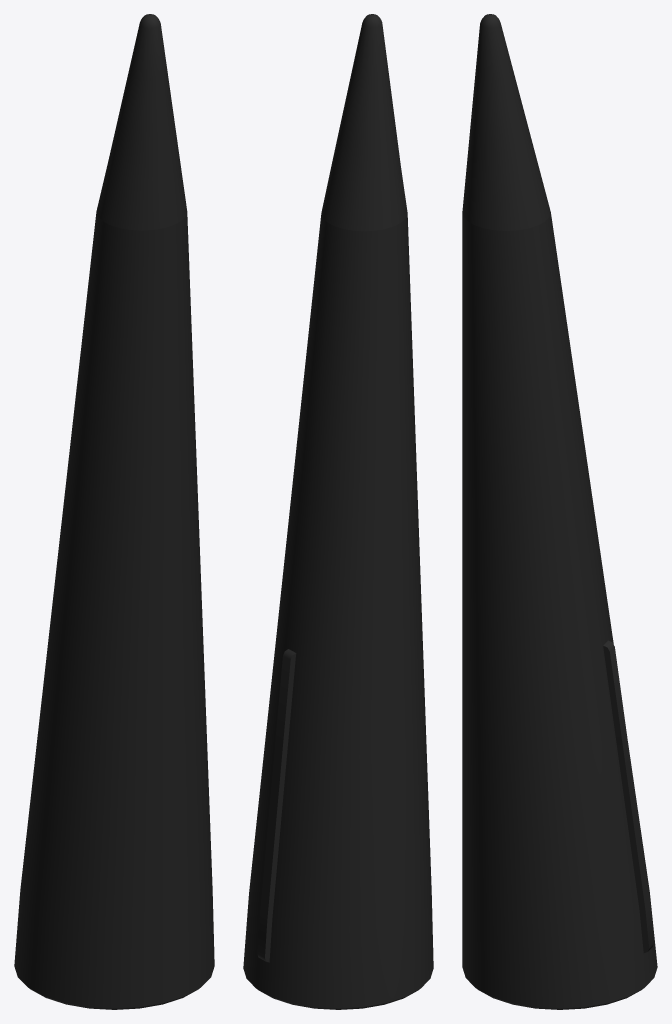
File: TLV_0_LFO_1.obj
3 renders of one model, left to right at view 1: azimuth 30°, elevation 25°; view 2: azimuth 150°, elevation 25°; view 3: azimuth 270°, elevation 25°, orthographic. The views are drawn at different scales.
Parts seen in each view (by area): view 1: TLV_0_LFO_1; view 2: TLV_0_LFO_1; view 3: TLV_0_LFO_1.
Boxes of the visible parts, box(x1,y1,x2,y2) form: TLV_0_LFO_1: box(14, 14, 214, 1009); TLV_0_LFO_1: box(243, 14, 433, 1009); TLV_0_LFO_1: box(462, 14, 657, 1009).
Size of the model in its own units: 1.88 by 10.13 by 1.88.
